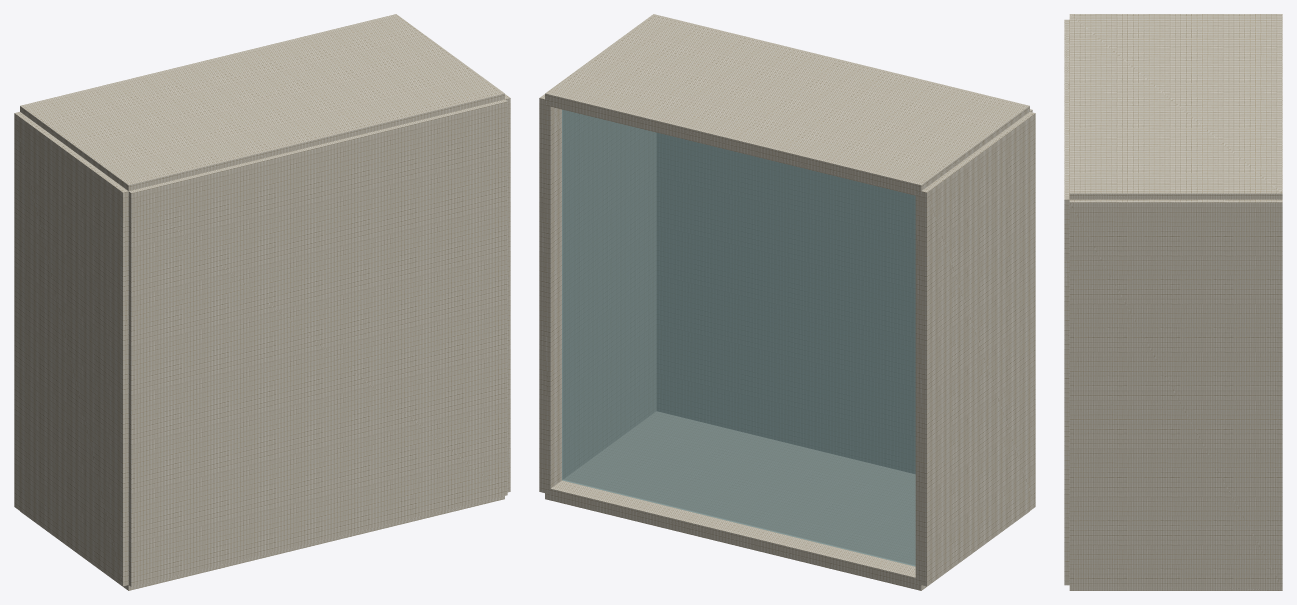
The model's file is pool_water.glb.
The picture shows the model from 3 angles, left to right: view 1: azimuth 30°, elevation 25°; view 2: azimuth 150°, elevation 25°; view 3: azimuth 270°, elevation 25°; orthographic projection. The views are drawn at different scales.
Visible parts, largest first — view 1: pool_water; view 2: pool_water; view 3: pool_water.
Boxes of the visible parts, x1=… form: pool_water: x1=14, y1=14, x2=510, y2=590; pool_water: x1=539, y1=14, x2=1035, y2=590; pool_water: x1=1064, y1=14, x2=1282, y2=590.
Size of the model in its own units: 4.12 by 4.12 by 2.05.
Materials: 2 (1 with a texture image).
